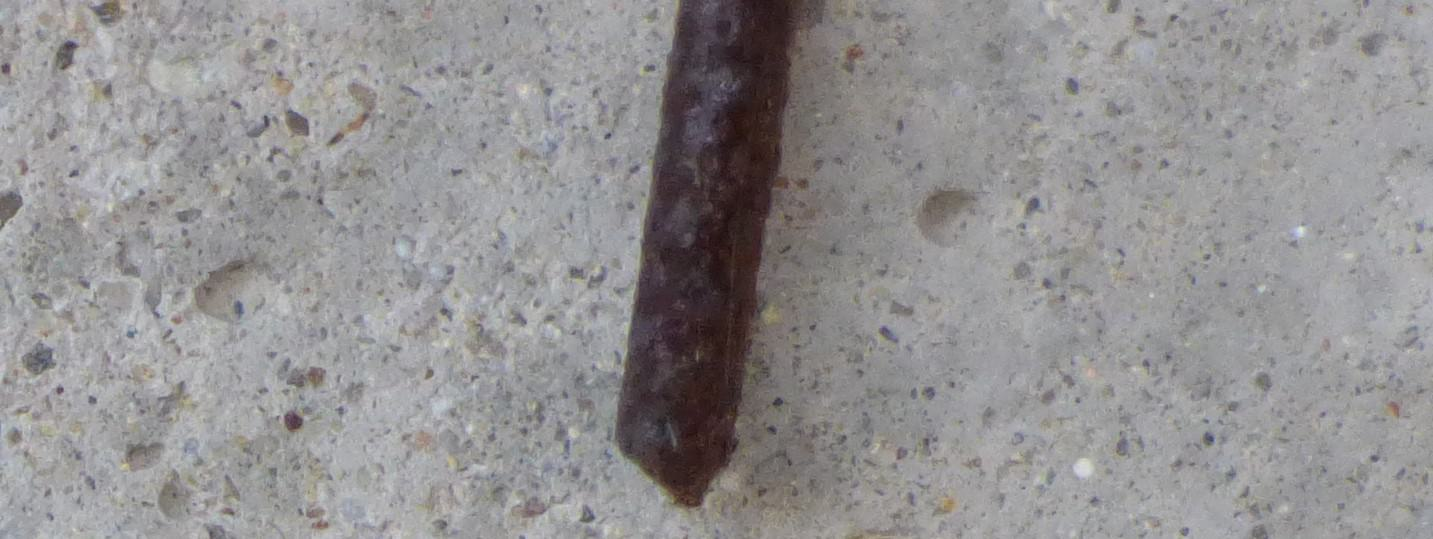Exposed reinforcement: (616, 1, 794, 509)
